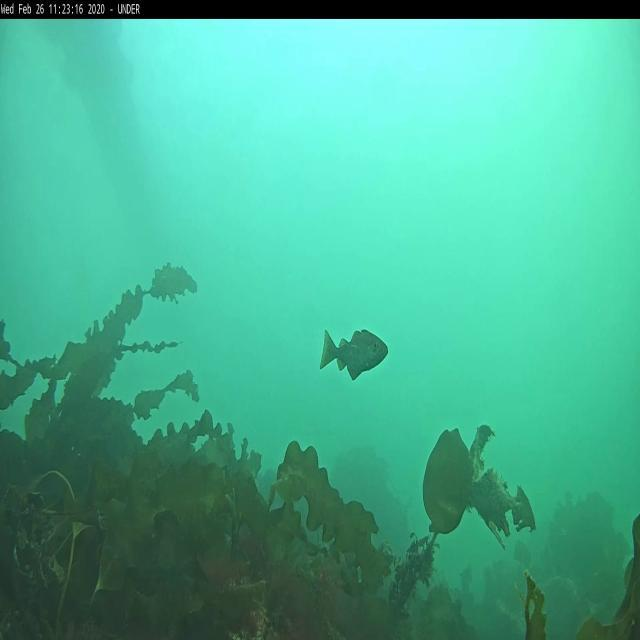fish: (322, 327, 388, 378)
